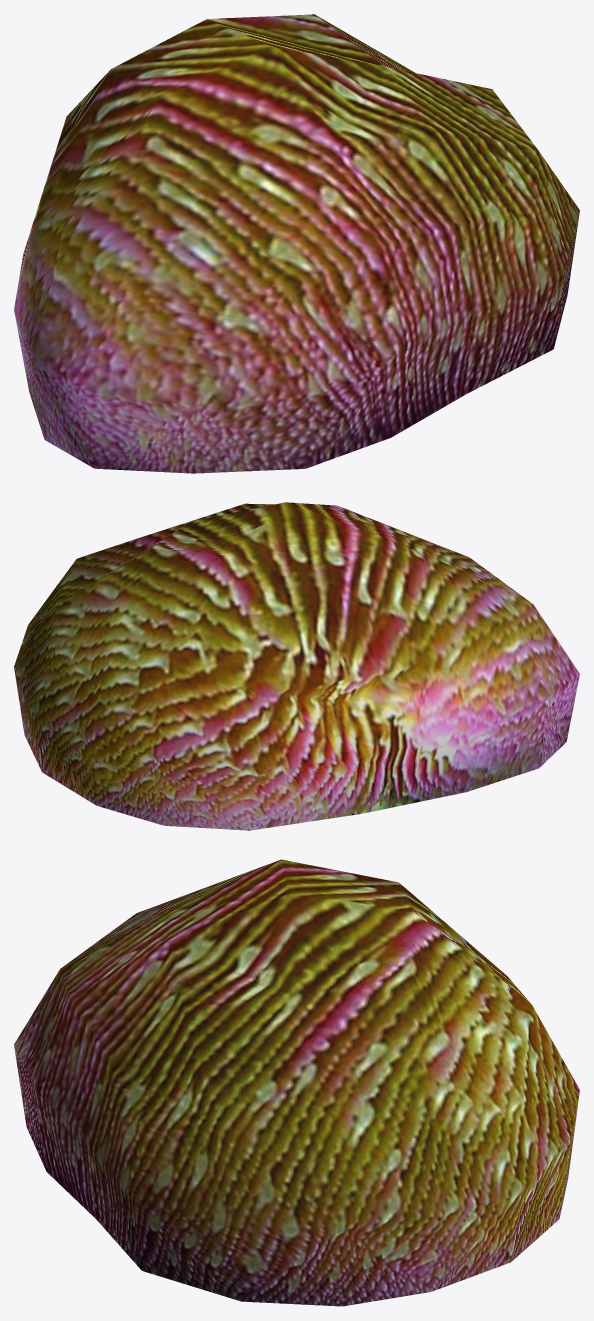
File: Coral_09.fbx
3 renders of one model, top to bottom at view 1: azimuth 30°, elevation 25°; view 2: azimuth 150°, elevation 25°; view 3: azimuth 270°, elevation 25°, orthographic. The views are drawn at different scales.
Visible parts, largest first — view 1: Coral_09; view 2: Coral_09; view 3: Coral_09.
Part boxes in pixels (x1=…): Coral_09: x1=14, y1=14, x2=579, y2=473; Coral_09: x1=14, y1=502, x2=579, y2=830; Coral_09: x1=14, y1=859, x2=579, y2=1306.
Size of the model in its own units: 0.8939 by 0.4392 by 0.7997.
